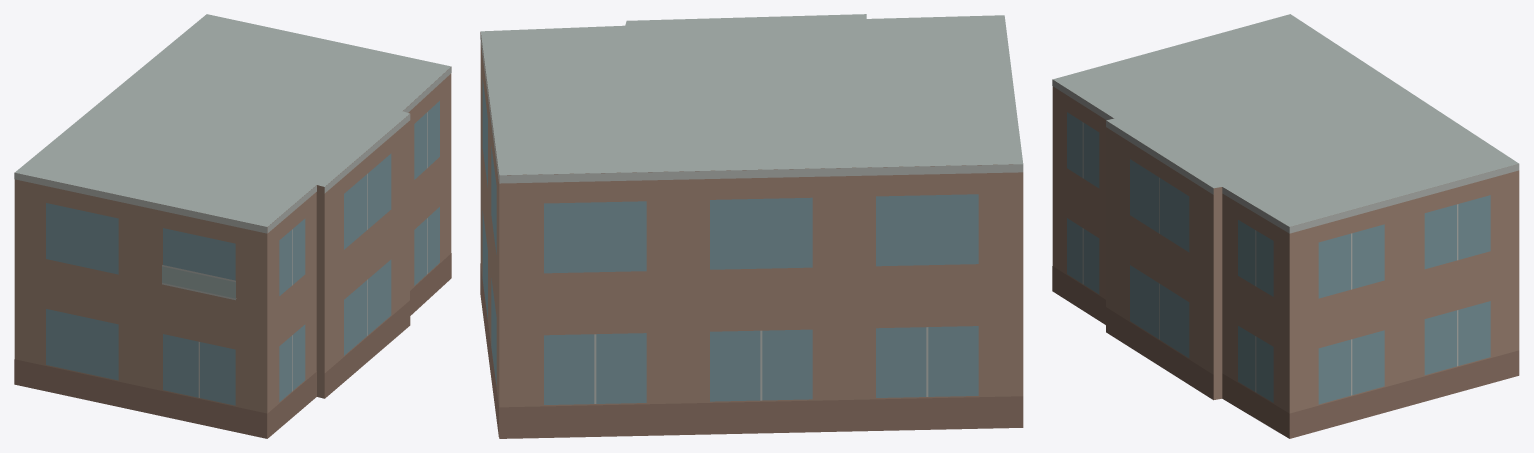
Rendered from survey-upis-32621831.glb.
3 renders of one model, left to right at view 1: azimuth 30°, elevation 25°; view 2: azimuth 150°, elevation 25°; view 3: azimuth 270°, elevation 25°, orthographic. The views are drawn at different scales.
Visible parts, largest first — view 1: survey-upis-32621831.tmp; view 2: survey-upis-32621831.tmp; view 3: survey-upis-32621831.tmp.
Part boxes in pixels (x1=…): survey-upis-32621831.tmp: x1=14, y1=14, x2=451, y2=438; survey-upis-32621831.tmp: x1=480, y1=14, x2=1023, y2=438; survey-upis-32621831.tmp: x1=1052, y1=14, x2=1519, y2=438.
Bounding box in the file's own units: 16.83 × 7.8 × 15.59.
